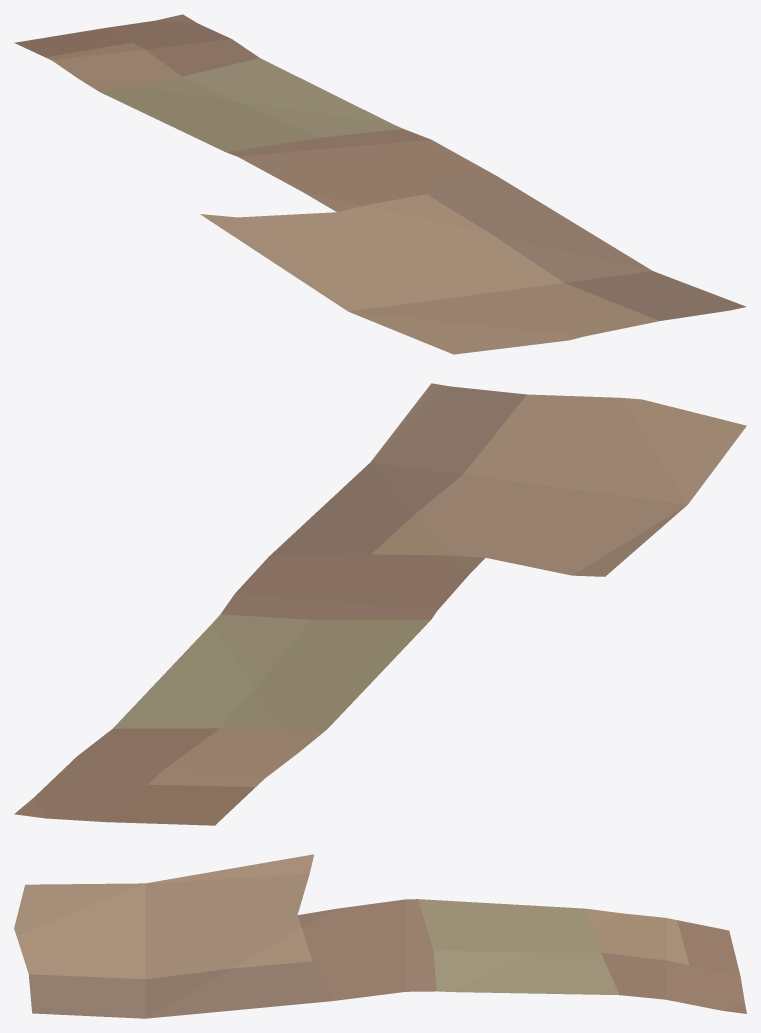
Rendered from farm_-49_-46_soil.glb.
The picture shows the model from 3 angles, top to bottom: view 1: azimuth 30°, elevation 25°; view 2: azimuth 150°, elevation 25°; view 3: azimuth 270°, elevation 25°; orthographic projection. The views are drawn at different scales.
Parts seen in each view (by area): view 1: geometry_0; view 2: geometry_0; view 3: geometry_0.
Boxes of the visible parts, x1=… form: geometry_0: x1=14, y1=14, x2=746, y2=354; geometry_0: x1=14, y1=383, x2=746, y2=825; geometry_0: x1=14, y1=854, x2=746, y2=1018.
Bounding box in the file's own units: 93.89 × 20.43 × 225.
